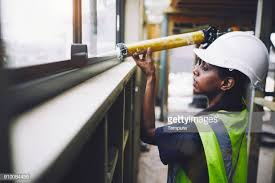helmet: (205, 32, 266, 78)
vest: (180, 115, 259, 181)
